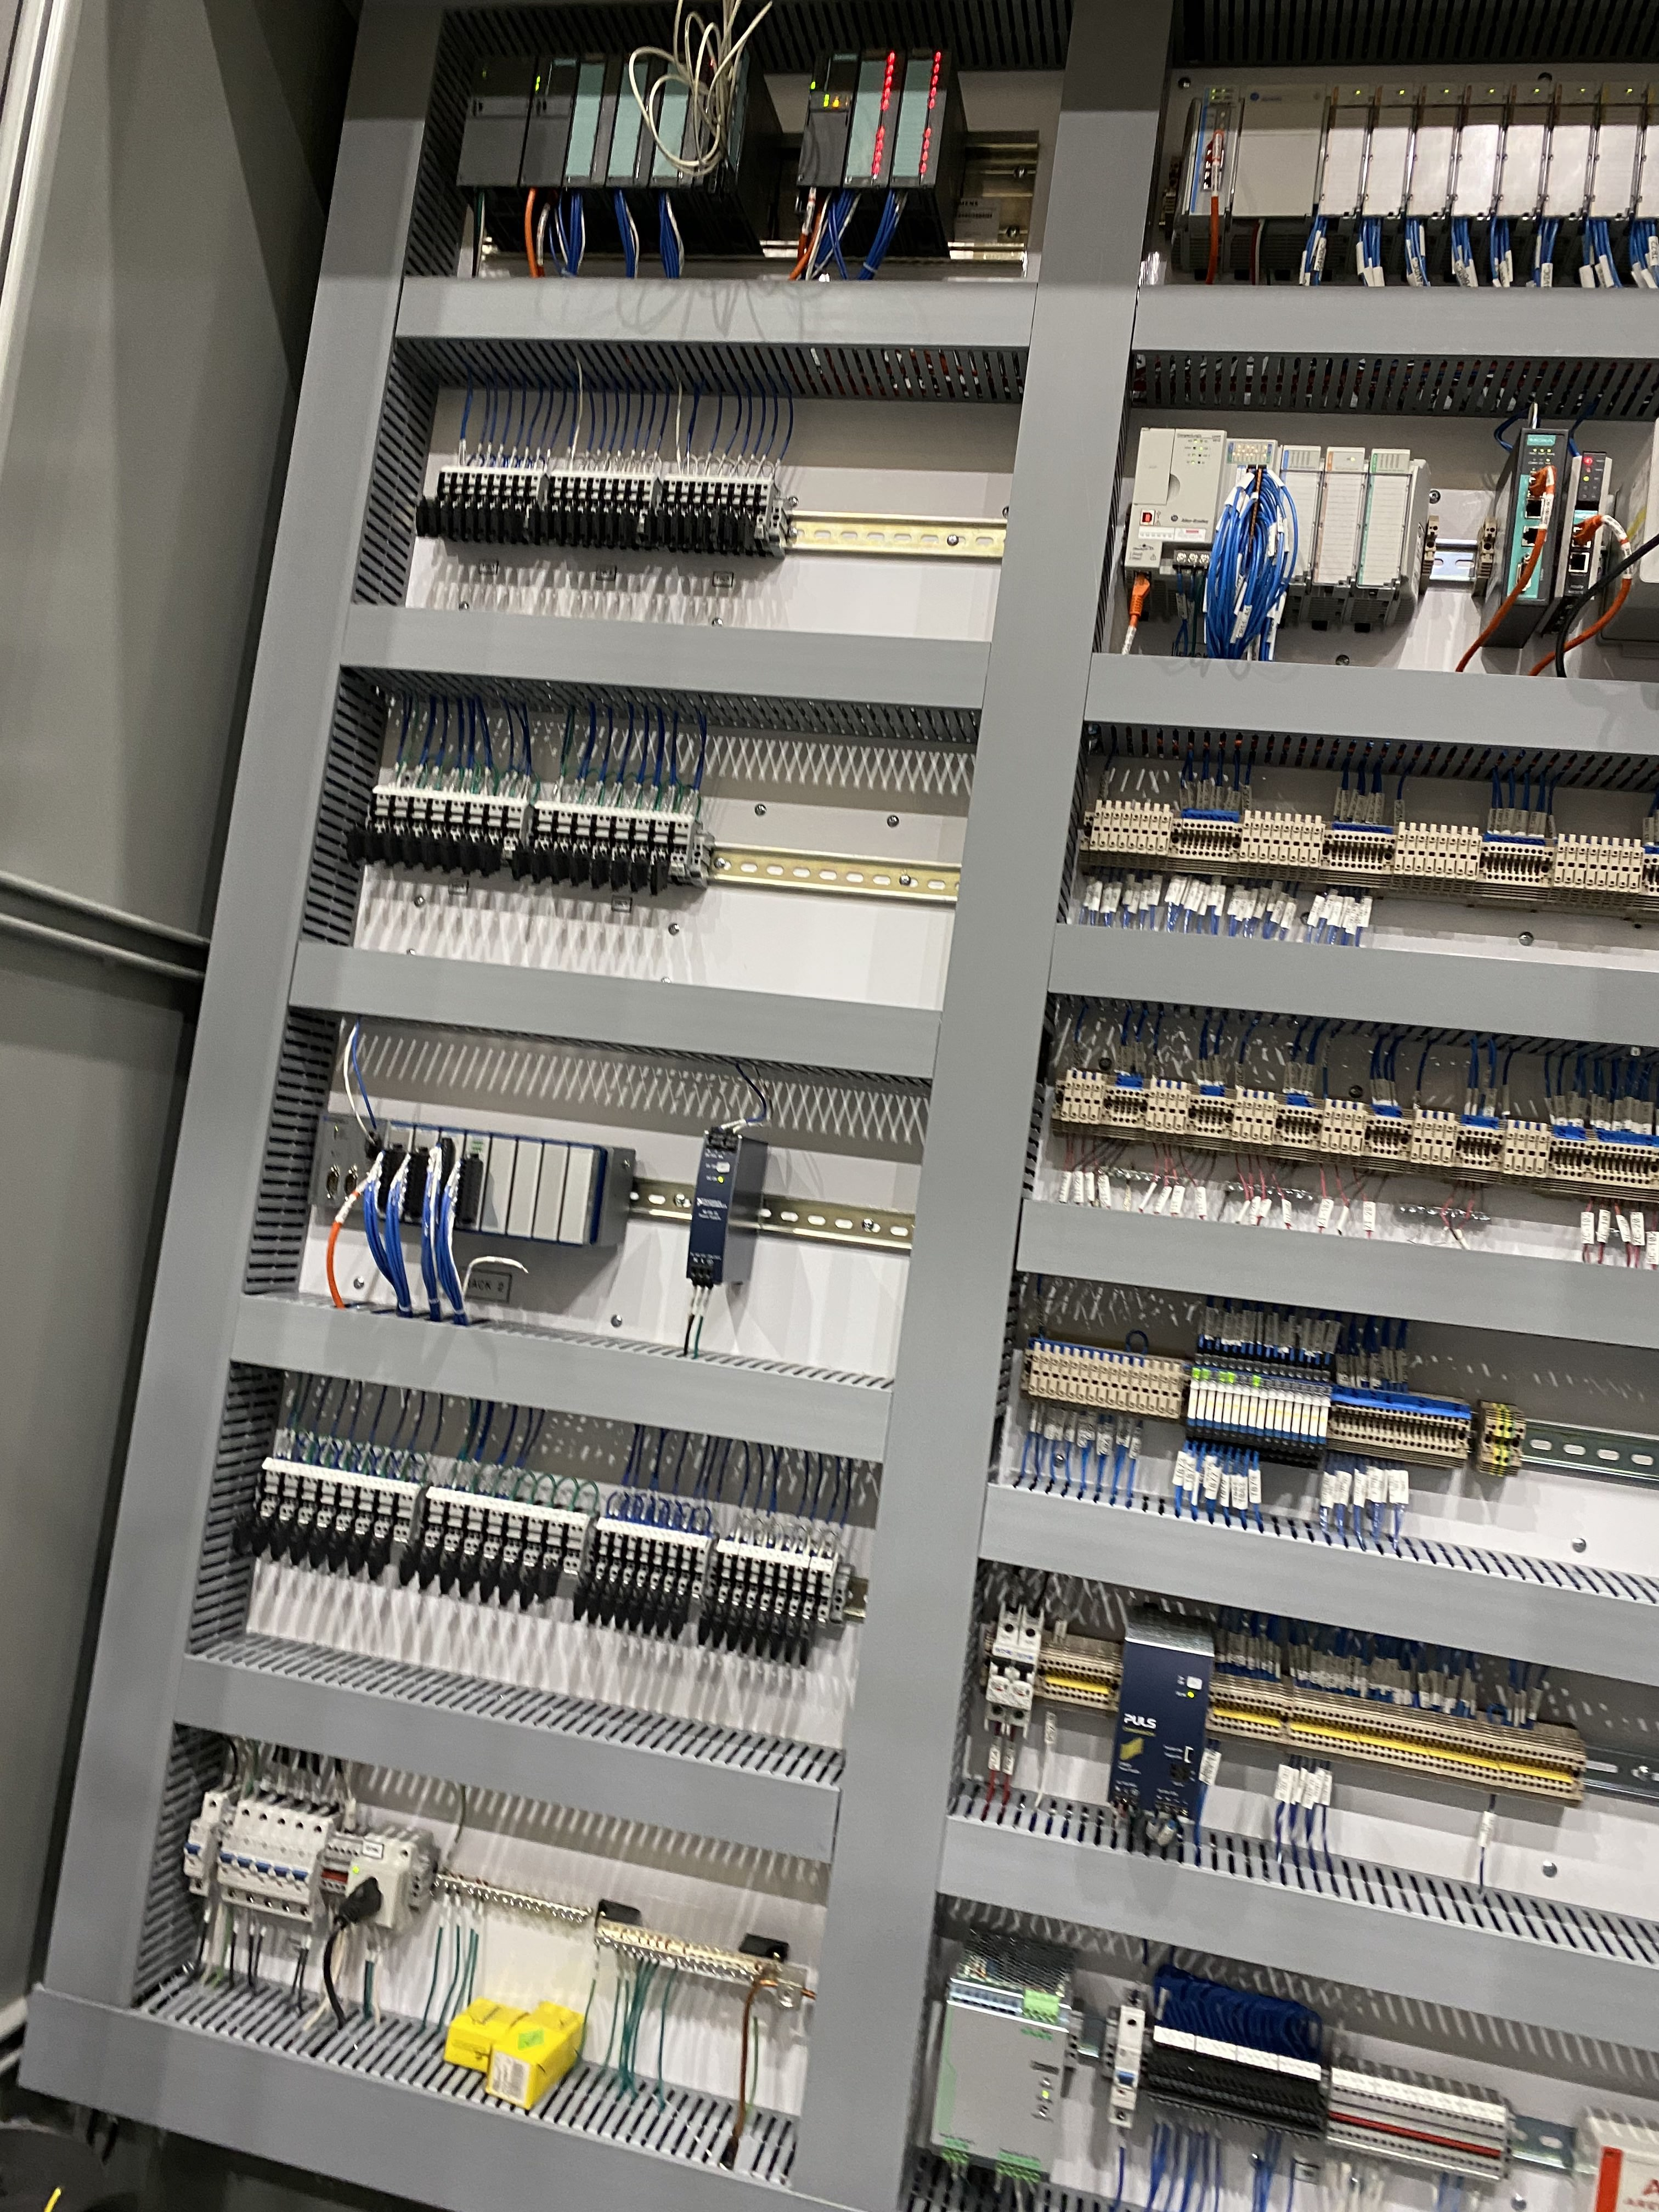AllenBradley: (1121, 420, 1229, 594)
Siemens: (514, 49, 586, 193)
